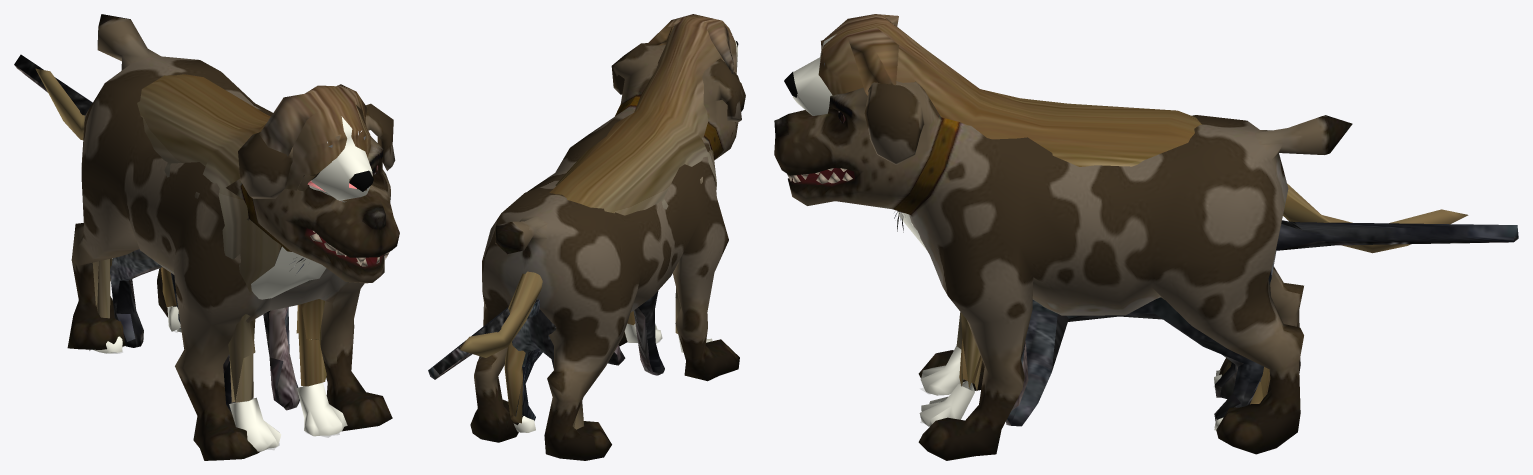
File: friends.fbx
The picture shows the model from 3 angles, left to right: view 1: azimuth 30°, elevation 25°; view 2: azimuth 150°, elevation 25°; view 3: azimuth 270°, elevation 25°; orthographic projection. The views are drawn at different scales.
Parts seen in each view (by area): view 1: Boxer, Collie, Cat; view 2: Boxer, Collie, Cat; view 3: Boxer, Collie, Cat.
Part boxes in pixels (left/top/right/bottom): Boxer: left=67, top=14, right=399, bottom=460; Collie: left=35, top=68, right=373, bottom=451; Cat: left=14, top=54, right=305, bottom=413; Boxer: left=470, top=43, right=745, bottom=460; Collie: left=459, top=14, right=738, bottom=432; Cat: left=428, top=291, right=664, bottom=420; Boxer: left=774, top=81, right=1352, bottom=460; Collie: left=784, top=14, right=1468, bottom=431; Cat: left=894, top=211, right=1518, bottom=426.
Size of the model in its own units: 58.82 by 110 by 191.
15 materials, 3 textured.
